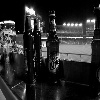beer: (45, 10, 62, 84)
